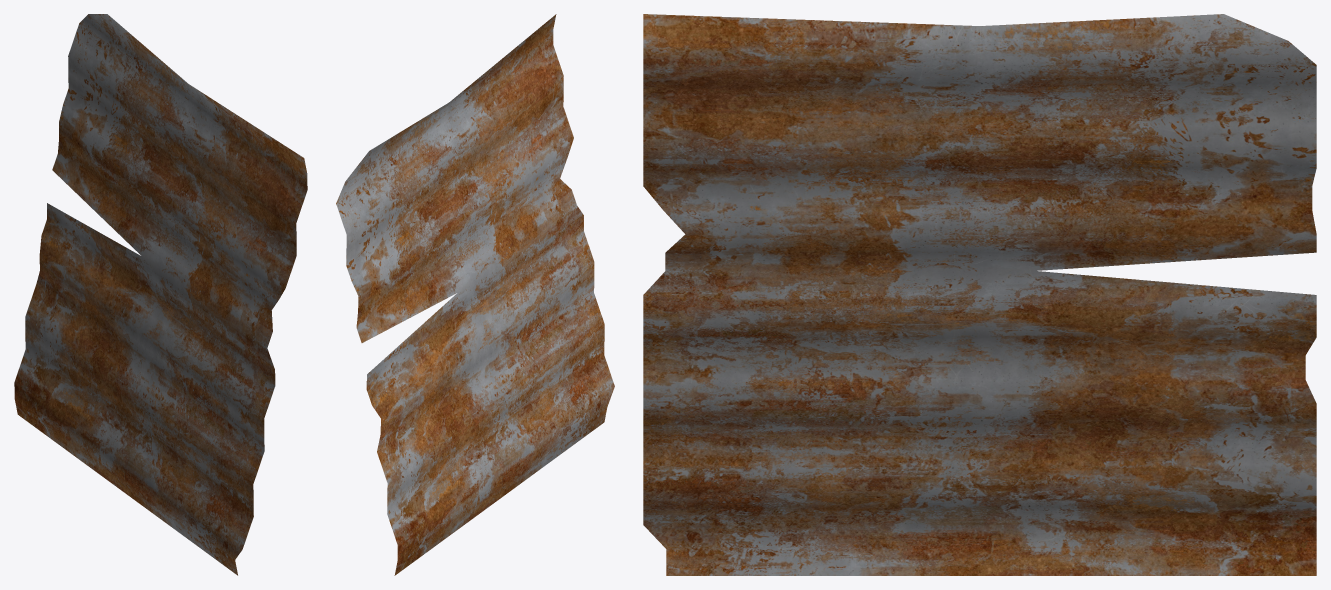
Rendered from Chapa 1.fbx.
The picture shows the model from 3 angles, left to right: view 1: azimuth 30°, elevation 25°; view 2: azimuth 150°, elevation 25°; view 3: azimuth 270°, elevation 25°; orthographic projection. The views are drawn at different scales.
Visible parts, largest first — view 1: pPlane16; view 2: pPlane16; view 3: pPlane16.
Boxes of the visible parts, <box> form: pPlane16: <box>14,14,307,575</box>; pPlane16: <box>336,14,614,575</box>; pPlane16: <box>643,14,1316,575</box>.
Size of the model in its own units: 19.06 by 115 by 116.
